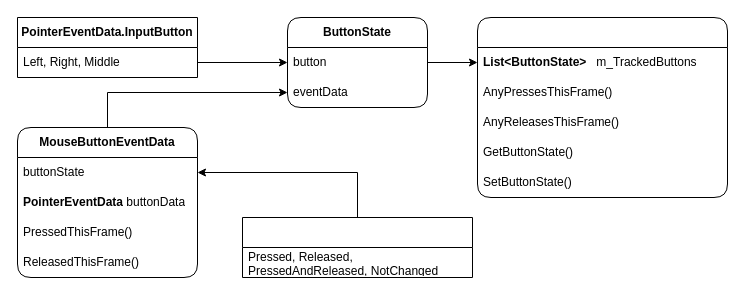
The diagram is 745 pixels wide and 295 high, and some of its shapes have lost their labels. The shapes that lost their labels are listed below. From the top down, each one's box as (x1, y1, x2, y2) in pixels, then its label:
(476, 16, 728, 198): MouseState
(242, 216, 472, 278): PointerEventData.FramePressState
